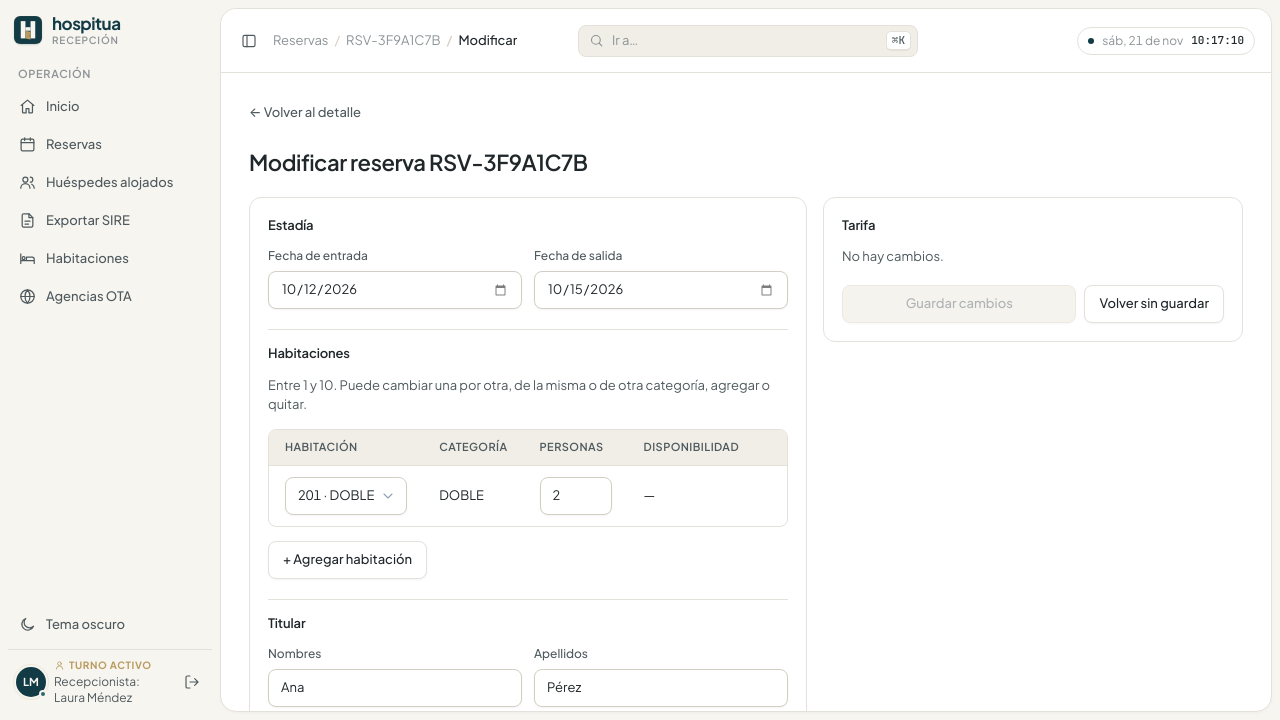
Test case: Pantalla "Modificar" (T014 de update-reservation) › al cambiar solo las personas de una habitación envía las habitaciones
Replace the text in the number field named "Personas en la habitación 1" with "1" at (576, 496), box [540, 476, 612, 514]
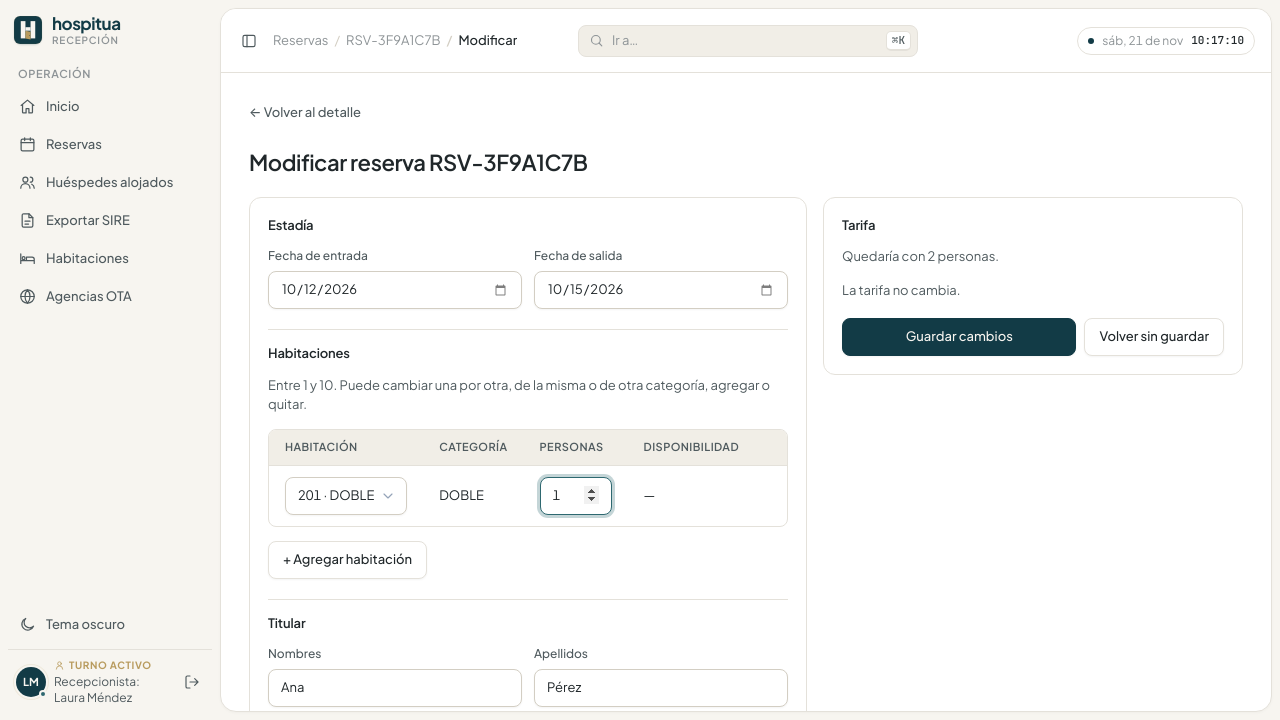
Now the text "La tarifa no cambia." is shown, box [842, 282, 960, 298]
